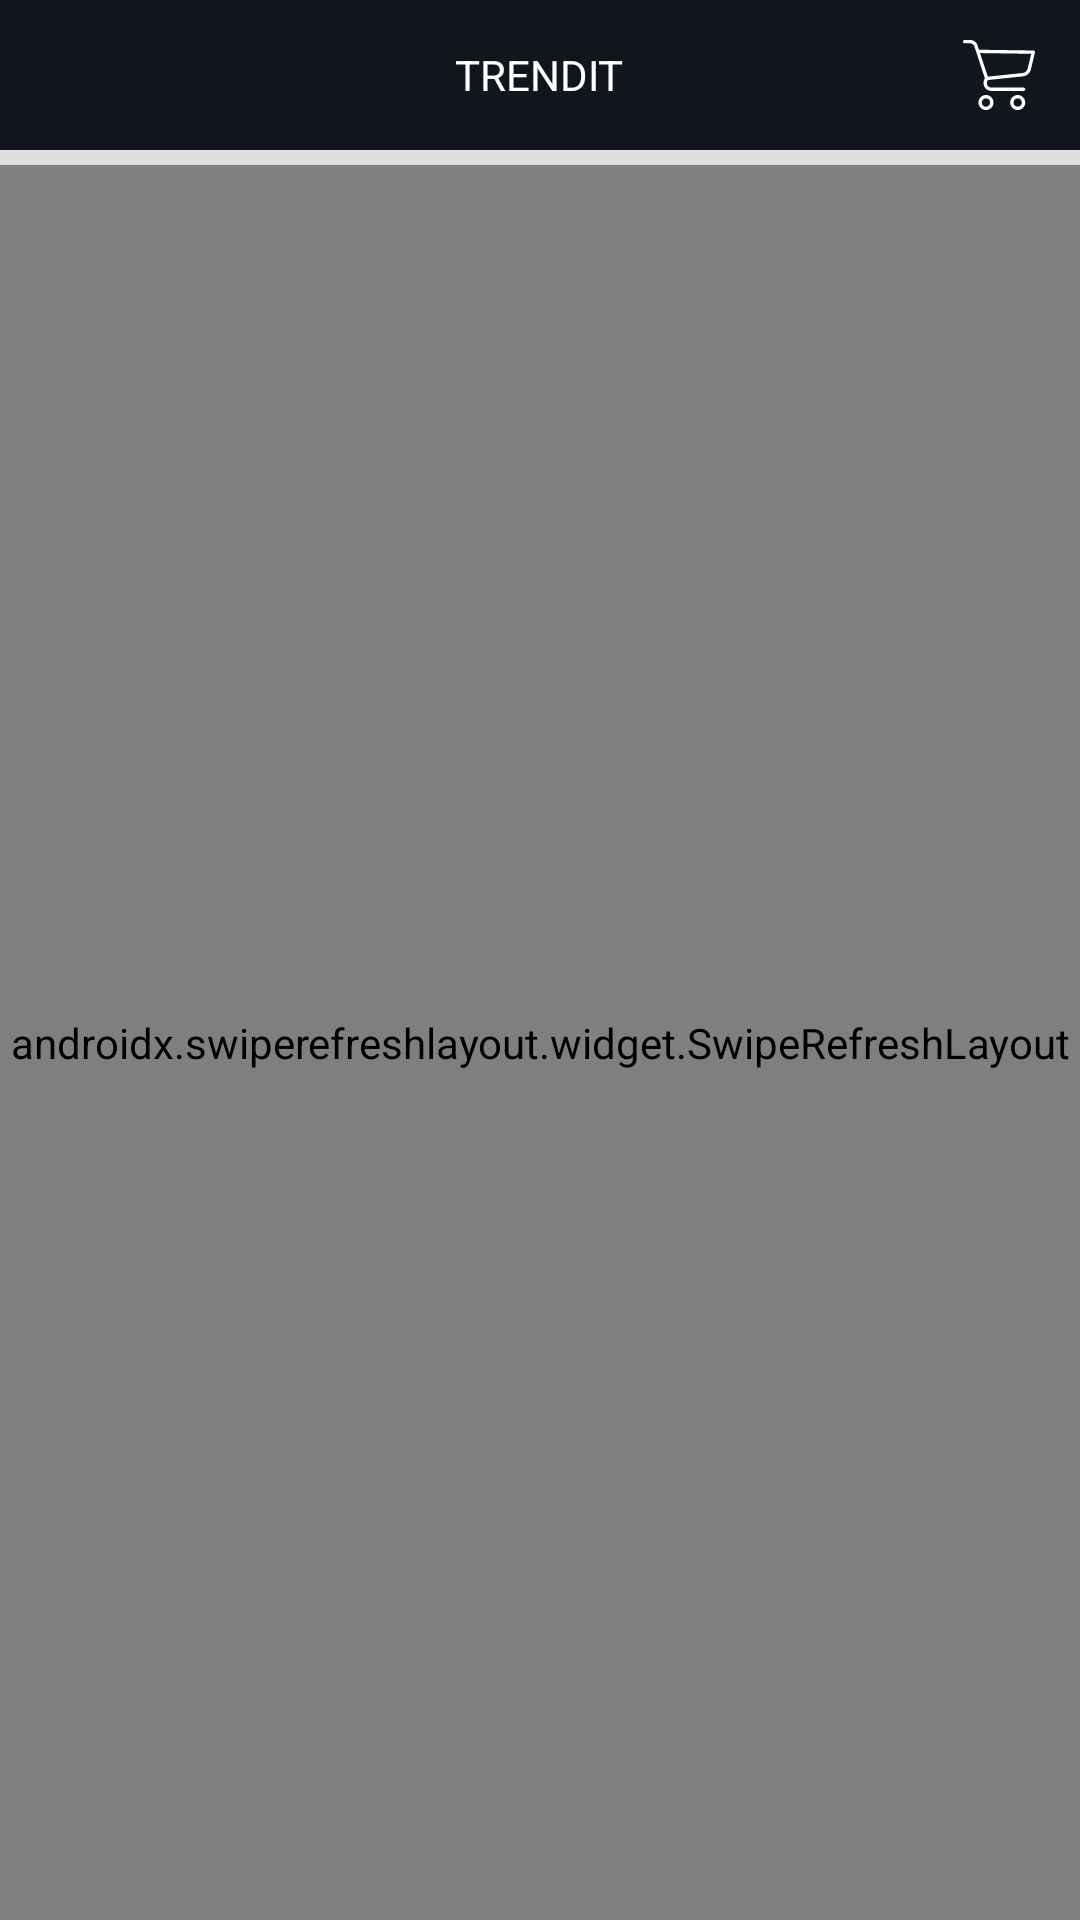

Named icons in this screenshot (1080×1920) and their bounding boxes, (x1, y1, x2, y2):
supermarket: (963, 40, 1035, 110)
